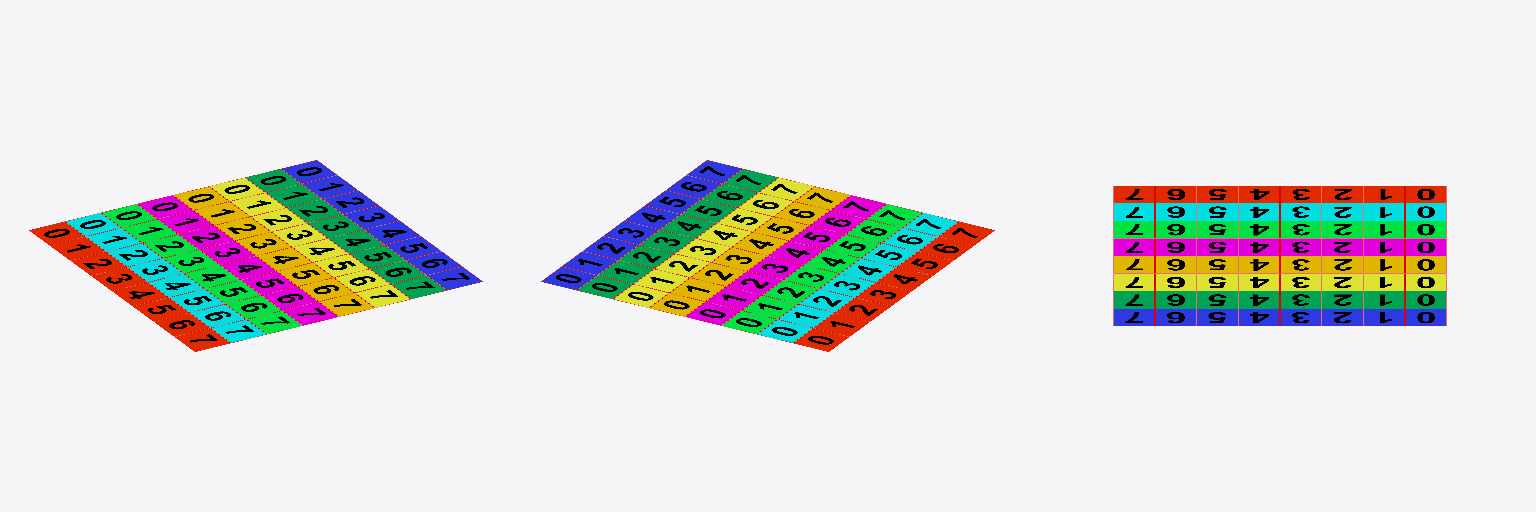
3 views of the same model, side by side, from view 1: azimuth 30°, elevation 25°; view 2: azimuth 150°, elevation 25°; view 3: azimuth 270°, elevation 25° (orthographic).
Visible parts, largest first — view 1: Plane; view 2: Plane; view 3: Plane.
Part boxes in pixels (bbox=[...]): Plane: bbox=[29, 160, 482, 351]; Plane: bbox=[541, 160, 994, 351]; Plane: bbox=[1113, 186, 1446, 325].
Bounding box in the file's own units: 40 × 0 × 40.
1 materials, 1 textured.